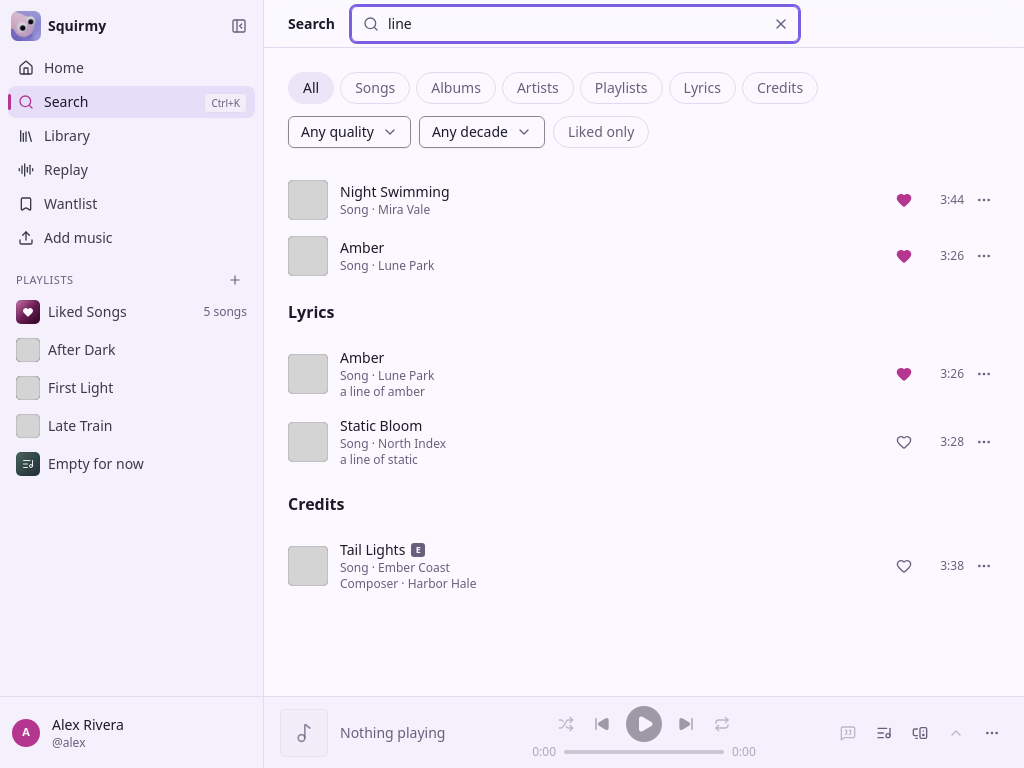
Test: search page › picks songs across the list and its lyric and credit matches, a song found twice once
Later steps or results of the test are not shown.
Click the button named "Play Night Swimming" at (644, 200), box [278,172,1010,228]
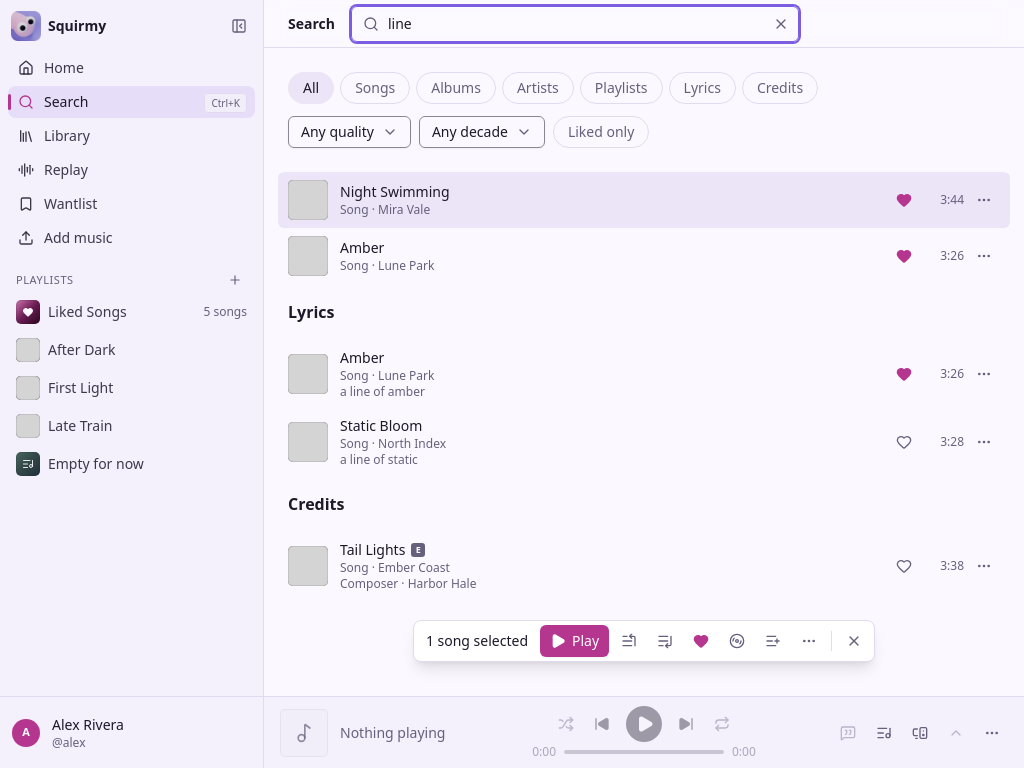
Click the button named "Play Static Bloom" at (644, 442), box [278,408,1010,476]
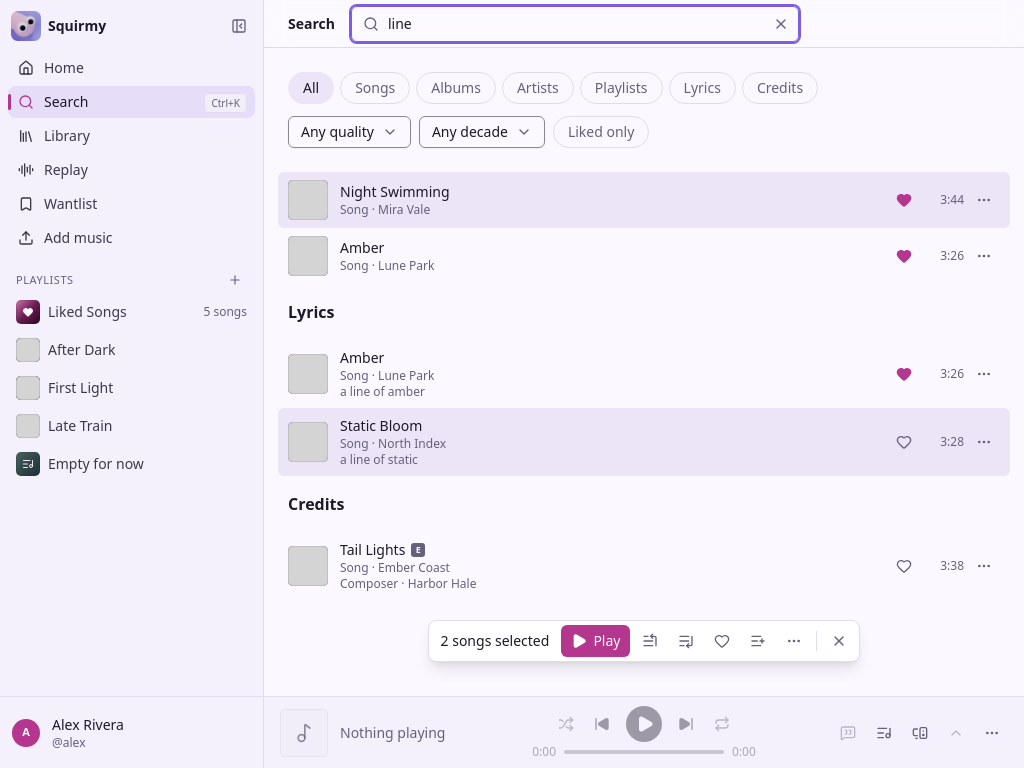
Click the button named "Play Tail Lights" at (644, 566), box [278,532,1010,600]
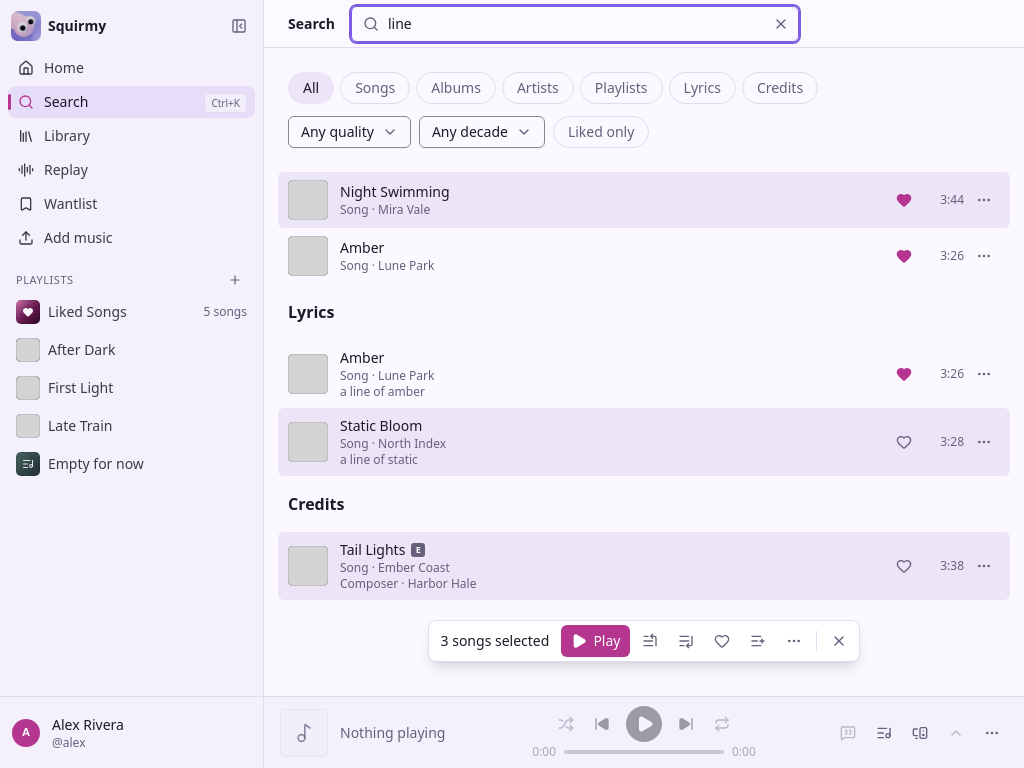
Click the button named "Play Amber" in the row of "a line of amber" at (644, 374), box [278,340,1010,408]
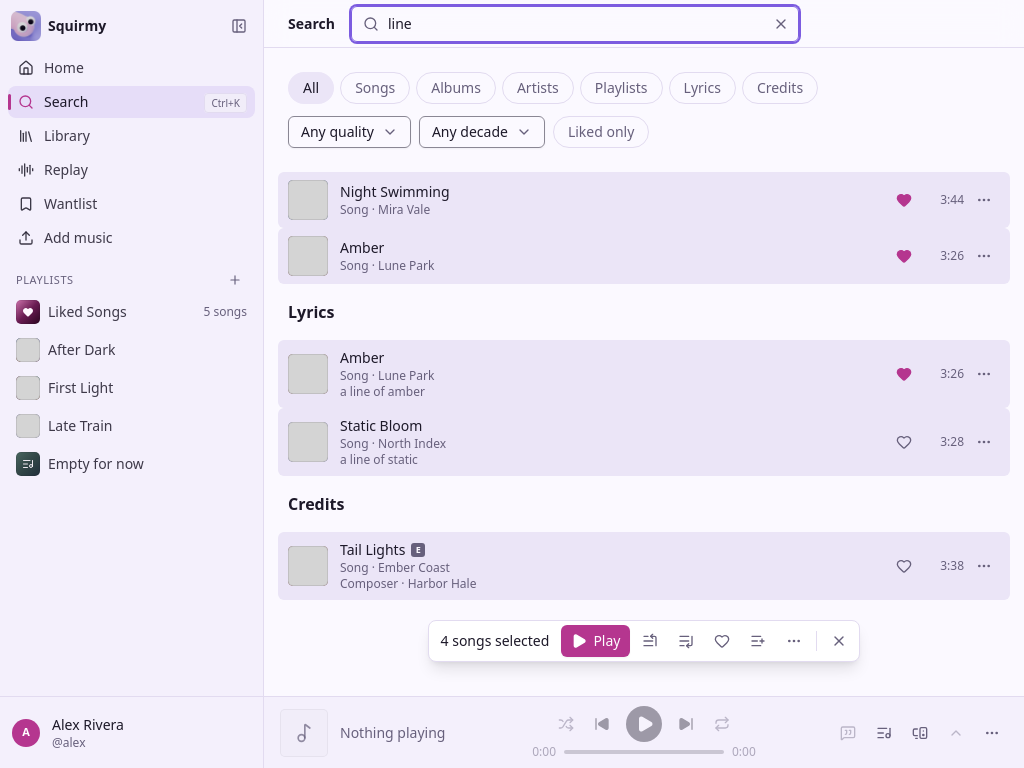
Expected: the element named "Selected songs" shows "4 songs selected", [440,631,549,650]
